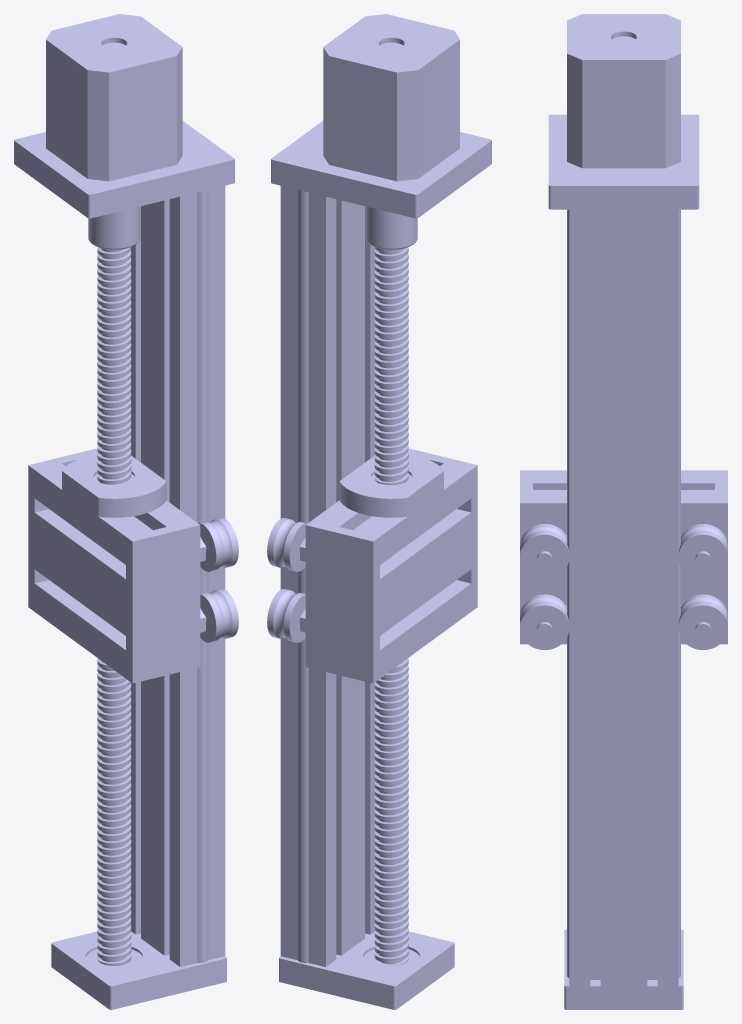
Rendered from Linear_Ver3.fbx.
3 renders of one model, left to right at view 1: azimuth 30°, elevation 25°; view 2: azimuth 150°, elevation 25°; view 3: azimuth 270°, elevation 25°, orthographic.
Visible parts, largest first — view 1: Part1, Part007, Part004, Part005, Part003, Part002, Part008, Part006, Part016, Part015; view 2: Part1, Part007, Part004, Part005, Part003, Part002, Part008, Part006, Part014, Part013; view 3: Part1, Part004, Part003, Part007, Part002, Part013, Part014, Part015, Part016.
Part boxes in pixels (x1,y1,x2,y2): Part1: (131,186,225,966); Part007: (28,448,200,683); Part004: (46,14,182,181); Part005: (97,247,131,965); Part003: (14,121,234,218); Part002: (51,931,226,1009); Part008: (62,455,166,517); Part006: (88,206,140,249); Part016: (198,518,238,571); Part015: (200,589,238,642); Part1: (280,186,375,966); Part007: (305,448,477,683); Part004: (323,14,459,181); Part005: (374,247,408,965); Part003: (271,121,491,218); Part002: (279,931,454,1009); Part008: (339,455,443,517); Part006: (365,206,417,249); Part014: (267,518,307,571); Part013: (267,589,305,642); Part1: (567,209,680,986); Part004: (567,14,680,168); Part003: (548,114,699,209); Part007: (520,470,727,644); Part002: (564,929,683,1009); Part013: (678,594,727,650); Part014: (678,524,727,579); Part015: (520,594,569,650); Part016: (520,524,569,579).
Size of the model in its own units: 6.5 by 39.6 by 8.
